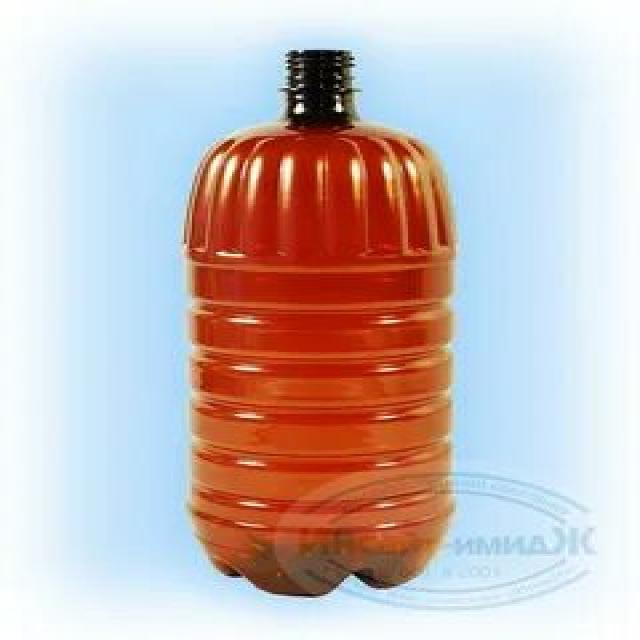brown: (184, 45, 453, 598)
